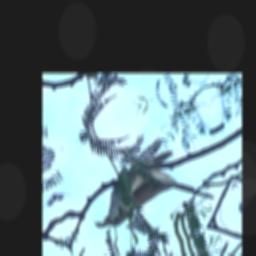Cuckoo: (84, 124, 219, 256)
